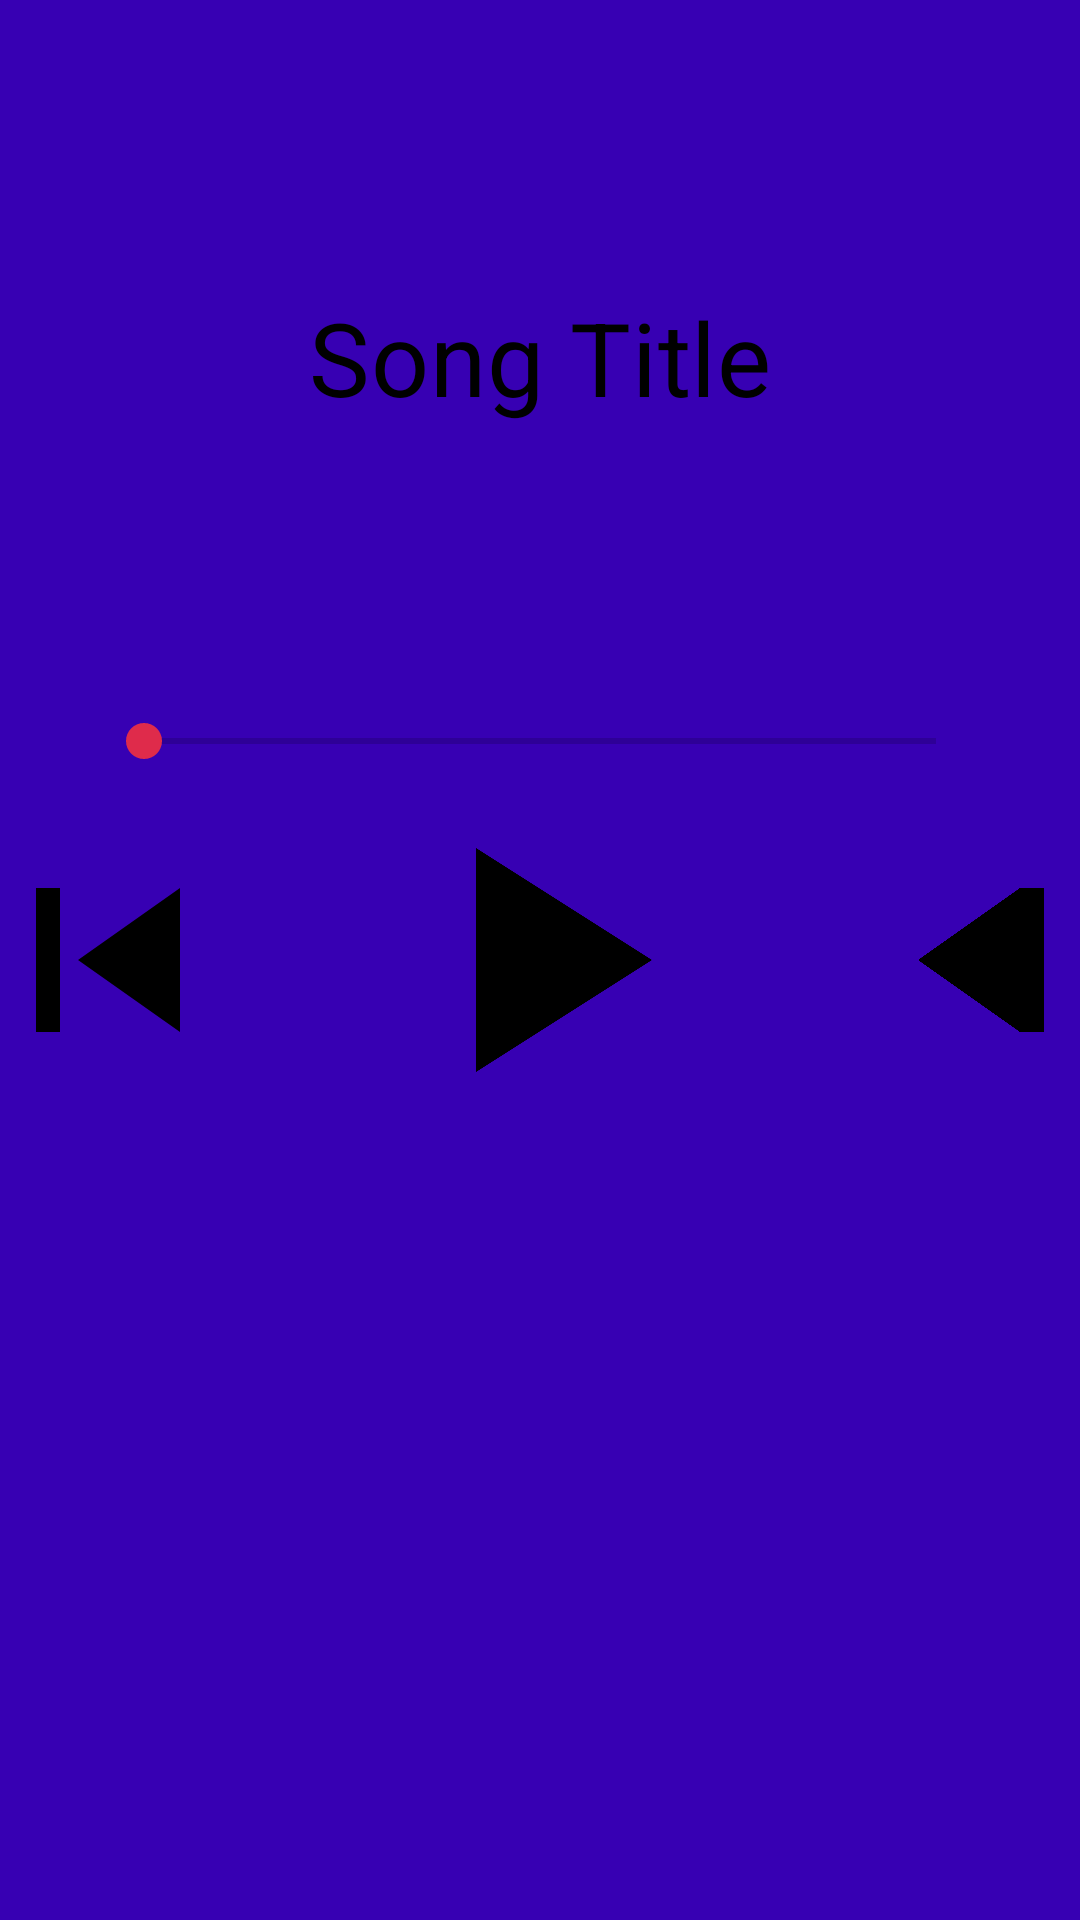

Point at icon controls on the screen. Image size 1080×1920, points as (x,y).
Play/Pause: (564,960)
